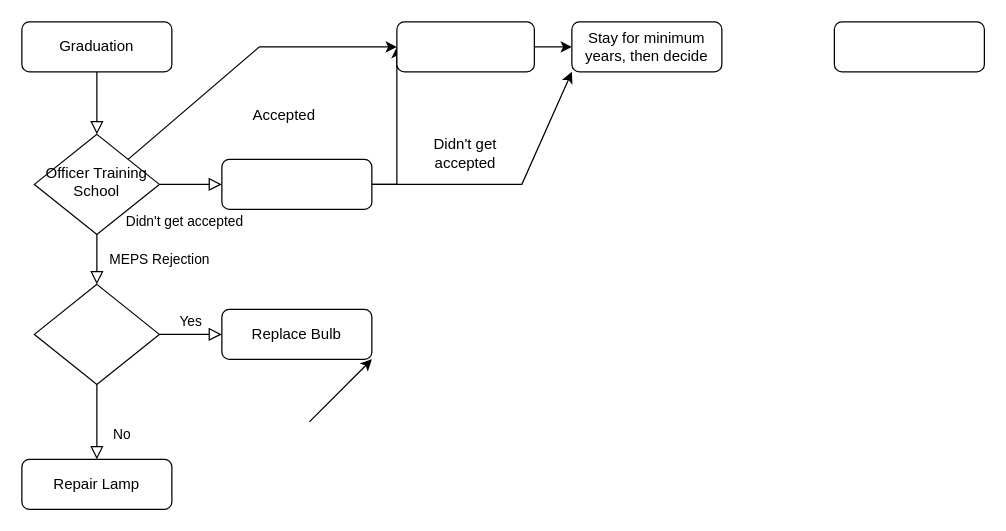
This 1006x531 diagram has some shape labels left out. The centre of each missing label's shape, as x and y in pixels:
"Commissioned" belongs at point (465, 46).
"Enlist/Warrant OFC/Commision" belongs at point (296, 183).
"Internships" belongs at point (96, 333).
